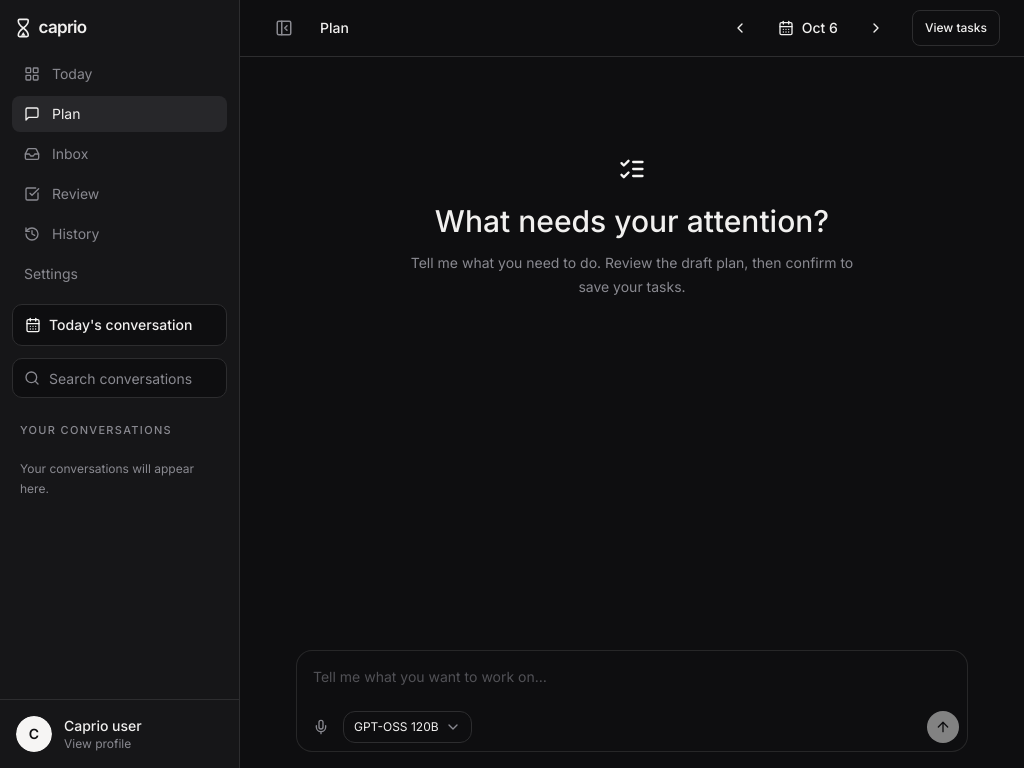
Scenario: Daily planning workflow › stops a reply on request and keeps the message ready to retry
Type "Plan my day" into the text box named "Message about your day" at (632, 683), box [305, 659, 959, 707]
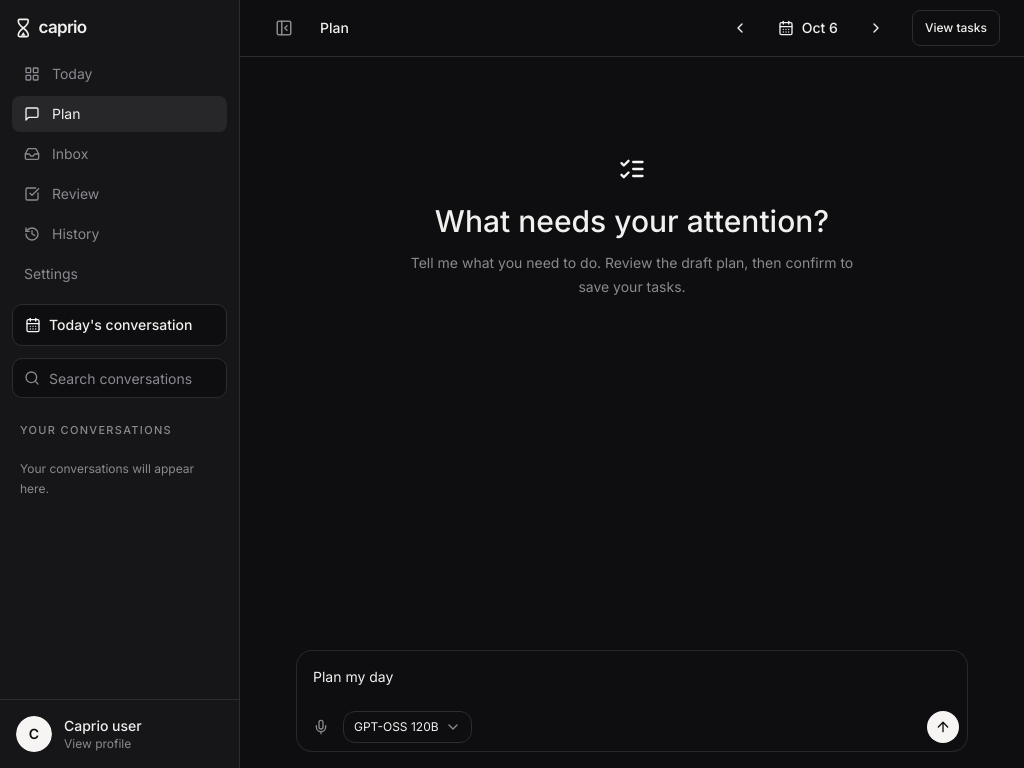
Click the button named "Send prompt" at (943, 727), box [927, 711, 959, 743]
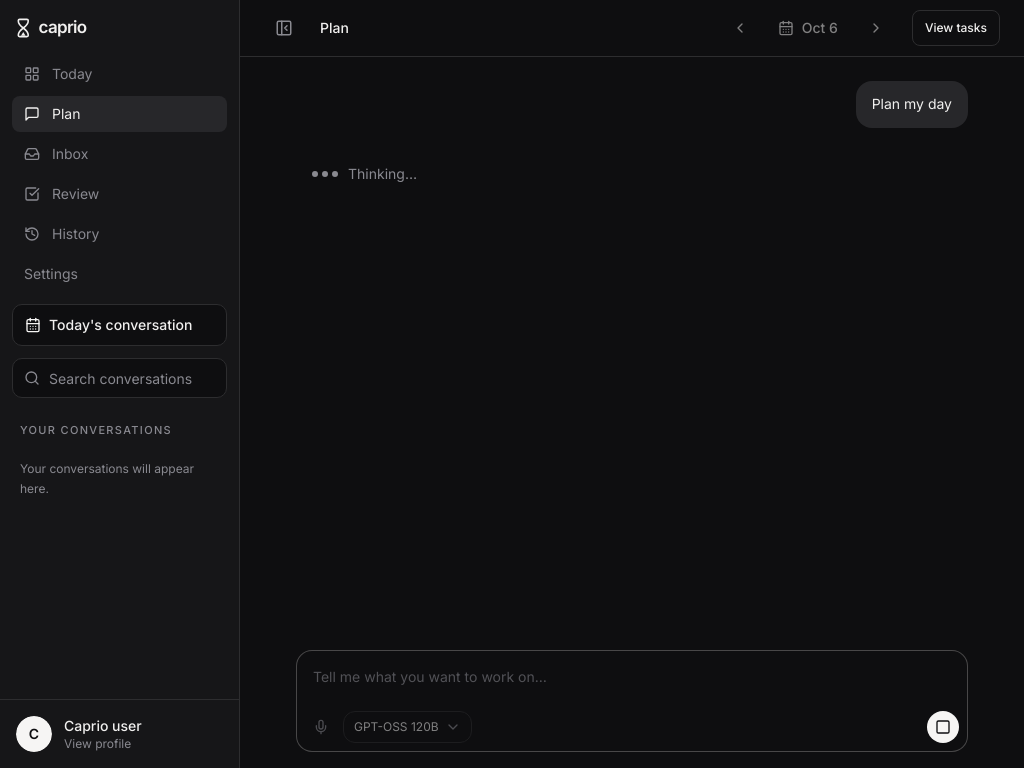
Click the button named "Stop generating" at (943, 727), box [927, 711, 959, 743]
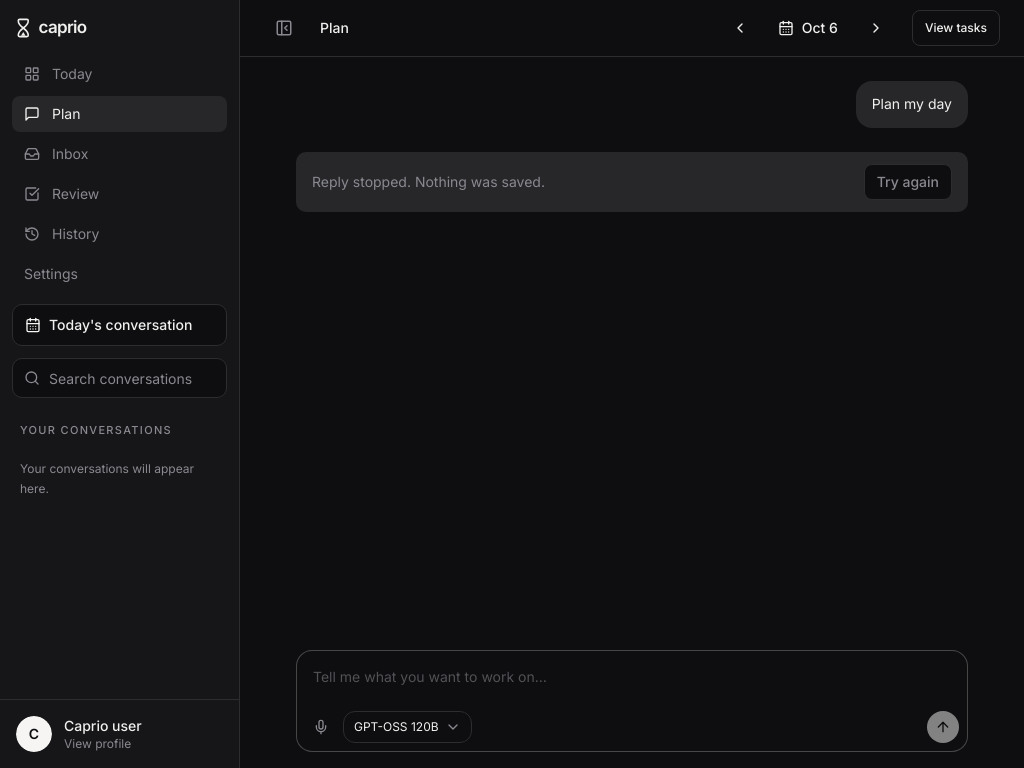
Expected: the text "Plan my day" is shown, [856, 81, 968, 128]
Expected: the text "Reply stopped. Nothing was saved." is shown, [312, 172, 545, 192]
Expected: the button "Try again" is shown, [864, 164, 952, 200]
